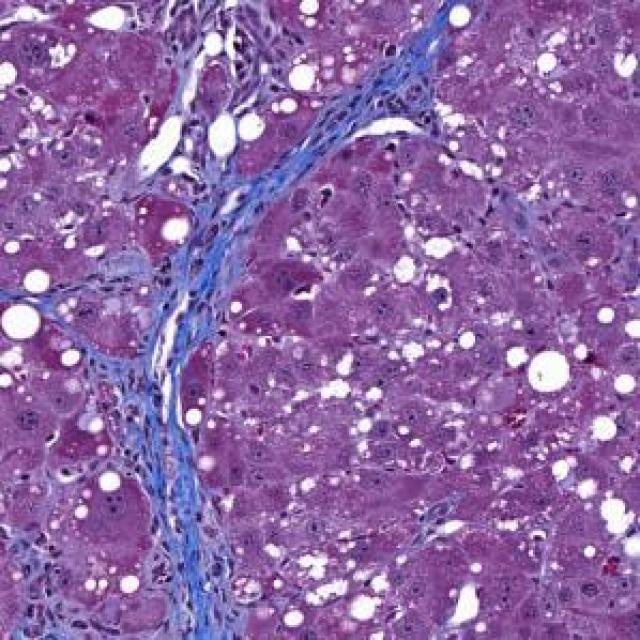fibrosis: (94, 353, 248, 640), (159, 146, 261, 326), (304, 49, 447, 156)
